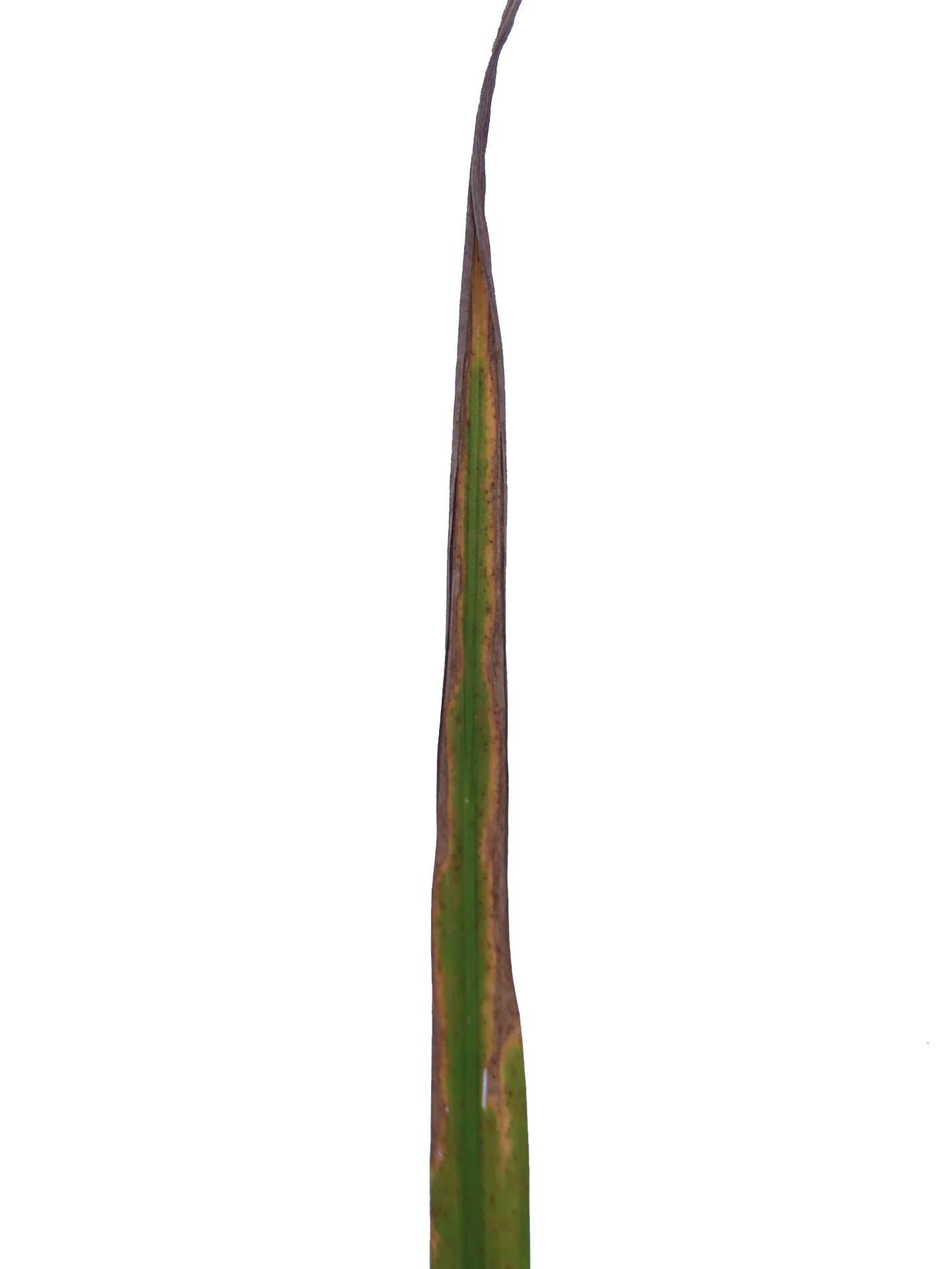Rice blast: (429, 0, 533, 1269)
